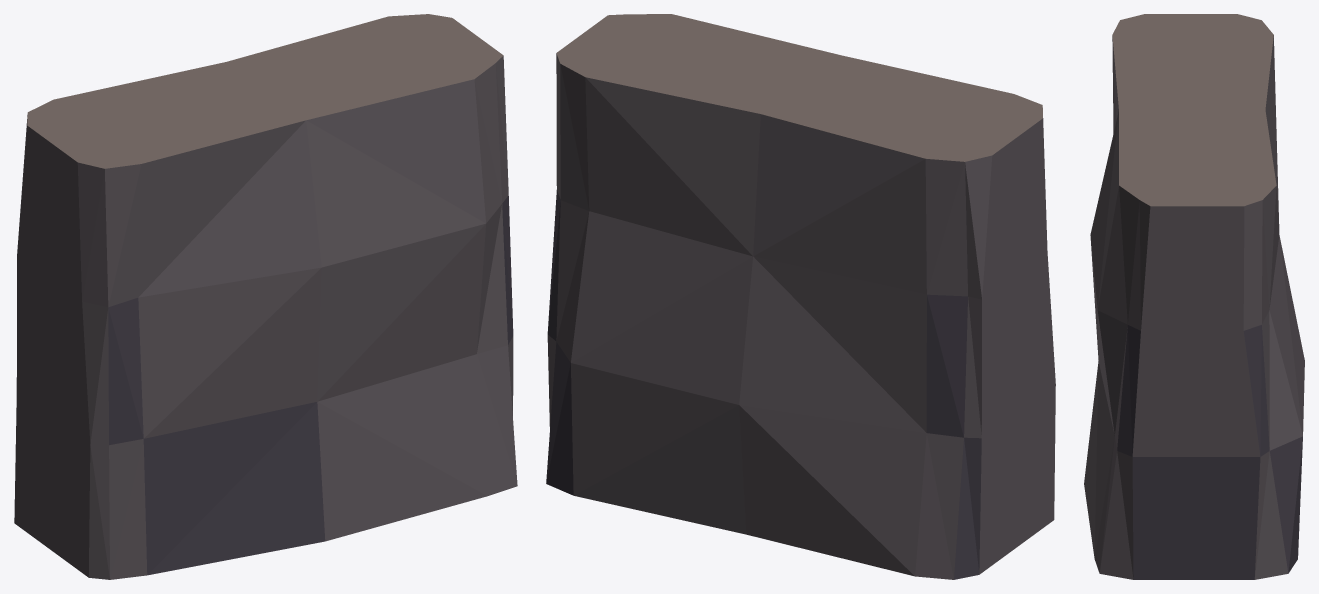
File: cave_wall_a.fbx
3 views of the same model, side by side, from view 1: azimuth 30°, elevation 25°; view 2: azimuth 150°, elevation 25°; view 3: azimuth 270°, elevation 25° (orthographic). The views are drawn at different scales.
Visible parts, largest first — view 1: cave_wall_a; view 2: cave_wall_a; view 3: cave_wall_a.
Part boxes in pixels (box(x1,y1,x2,y2)): cave_wall_a: box(14, 14, 517, 579); cave_wall_a: box(546, 14, 1055, 579); cave_wall_a: box(1084, 14, 1304, 579).
Size of the model in its own units: 3.97 by 3.6 by 1.93.
